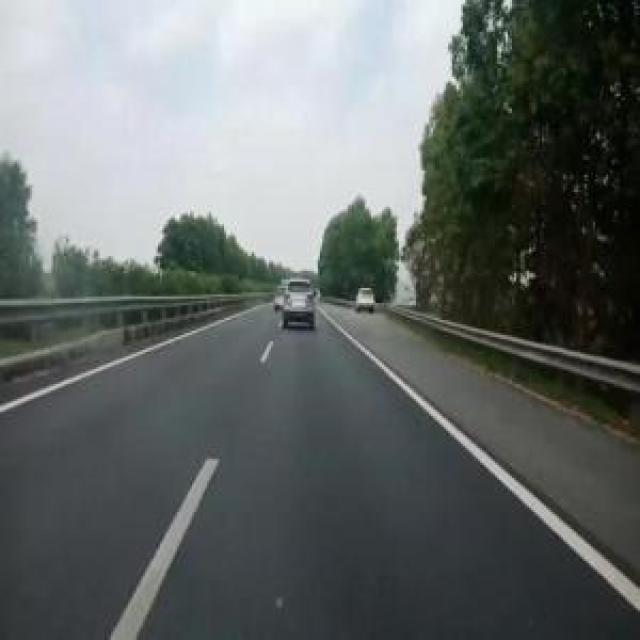clear-road: (0, 305, 640, 640)
